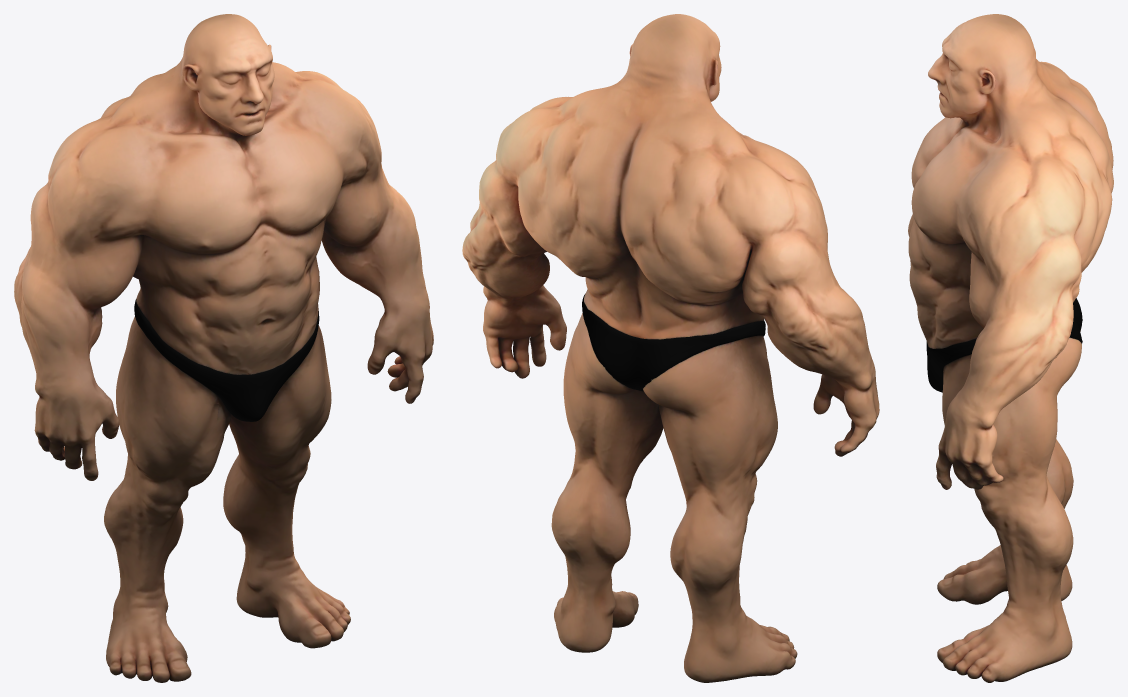
The model's file is super-human.glb.
3 views of the same model, side by side, from view 1: azimuth 30°, elevation 25°; view 2: azimuth 150°, elevation 25°; view 3: azimuth 270°, elevation 25° (orthographic). The views are drawn at different scales.
Parts seen in each view (by area): view 1: Object_2, Object_4; view 2: Object_2, Object_4; view 3: Object_2, Object_4.
Part boxes in pixels (x1,y1,x2,y2): Object_2: (14,14,433,682); Object_4: (134,299,319,421); Object_2: (462,14,879,682); Object_4: (582,294,765,391); Object_2: (908,14,1113,682); Object_4: (926,298,1082,392).
Bounding box in the file's own units: 139 × 213 × 64.71.
Materials: 2 (1 with a texture image).
